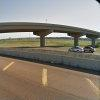Bridge: (1, 16, 97, 46)
